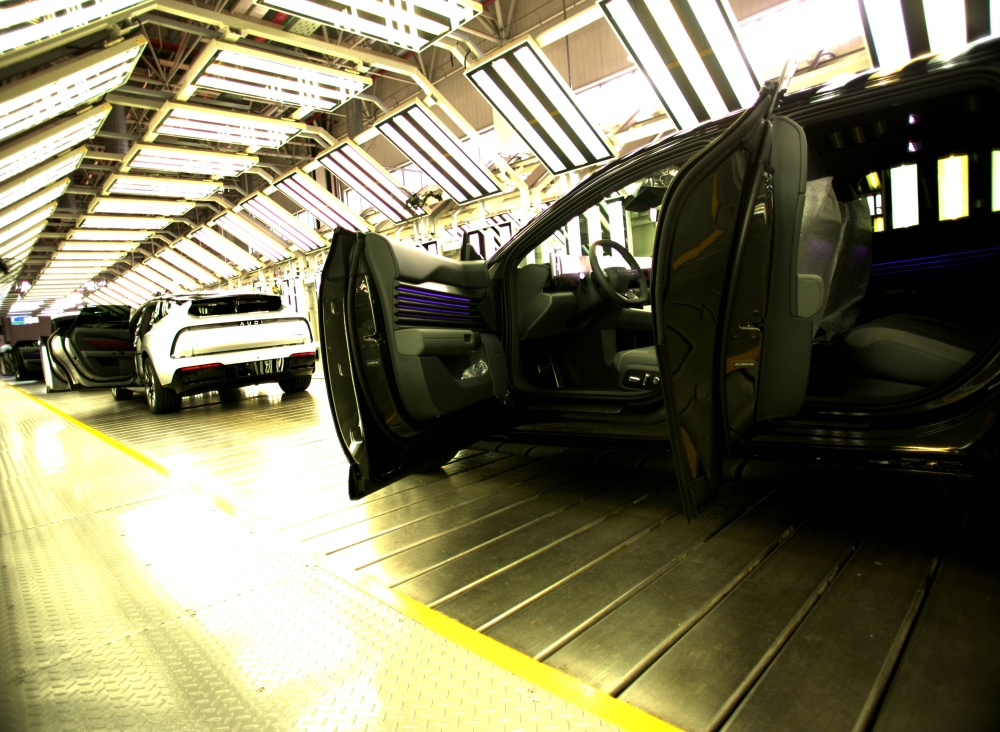armrest_color: (390, 327, 478, 358)
panel_color: (390, 276, 478, 330)
